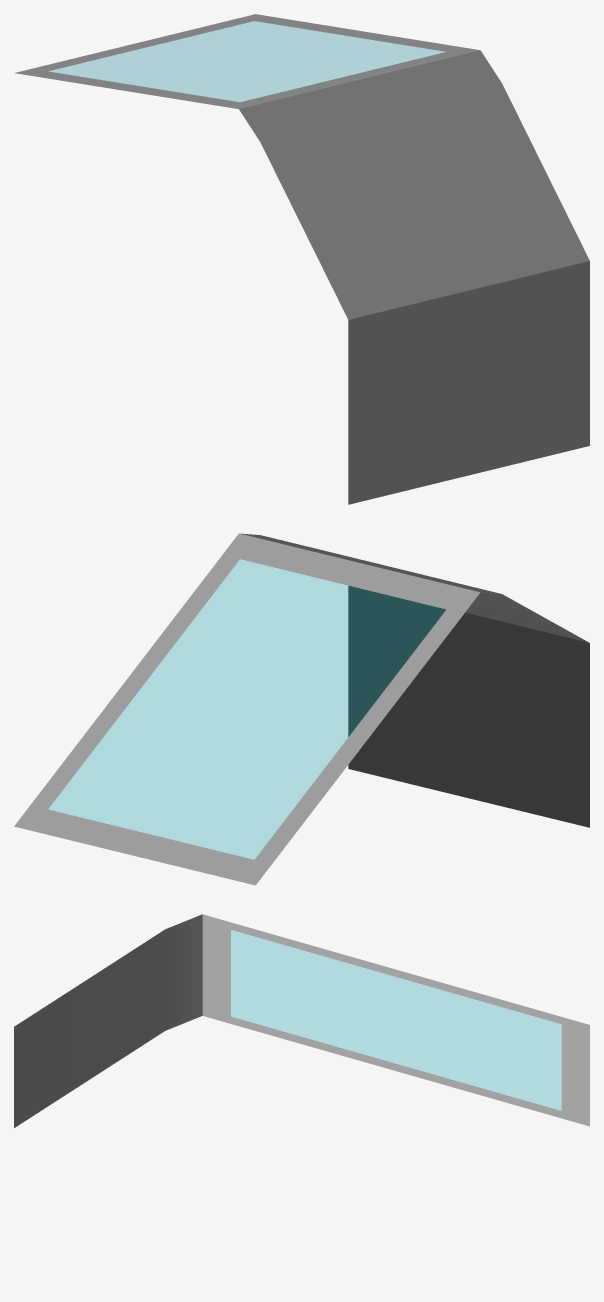
File: library-face.fbx
The picture shows the model from 3 angles, top to bottom: view 1: azimuth 30°, elevation 25°; view 2: azimuth 150°, elevation 25°; view 3: azimuth 270°, elevation 25°; orthographic projection. The views are drawn at different scales.
Visible parts, largest first — view 1: pCube42; view 2: pCube42; view 3: pCube42.
Part boxes in pixels (left/top/right/bottom): pCube42: left=14, top=14, right=589, bottom=504; pCube42: left=14, top=533, right=589, bottom=885; pCube42: left=14, top=914, right=589, bottom=1127.
Size of the model in its own units: 40.9 by 51.03 by 97.98.
